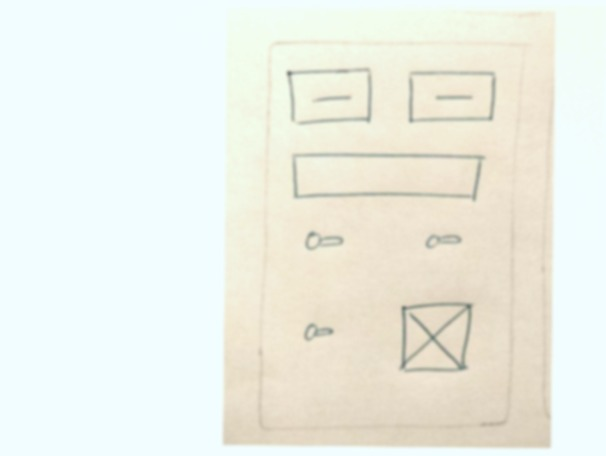button: (399, 62, 501, 135), (281, 61, 378, 129)
image: (394, 297, 479, 381)
switch: (292, 221, 356, 256)
text_input: (282, 143, 489, 209), (409, 228, 471, 256), (298, 313, 339, 348)
